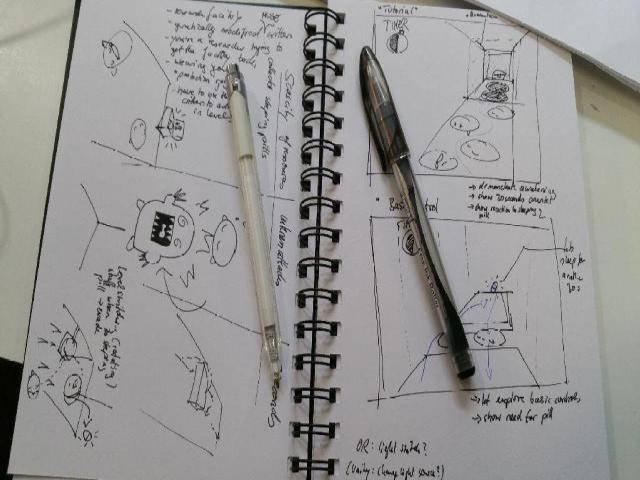PEN: (345, 45, 489, 377), (219, 61, 291, 391)
